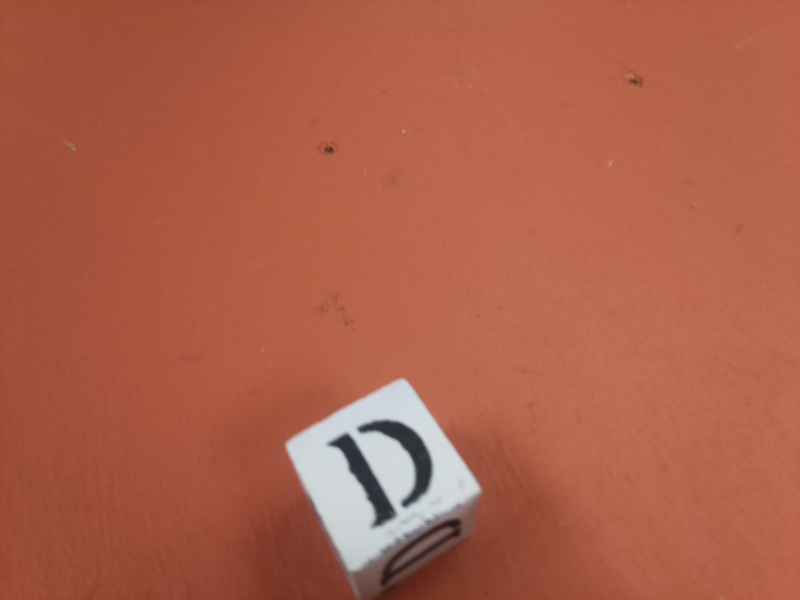blockD: (280, 377, 484, 595)
